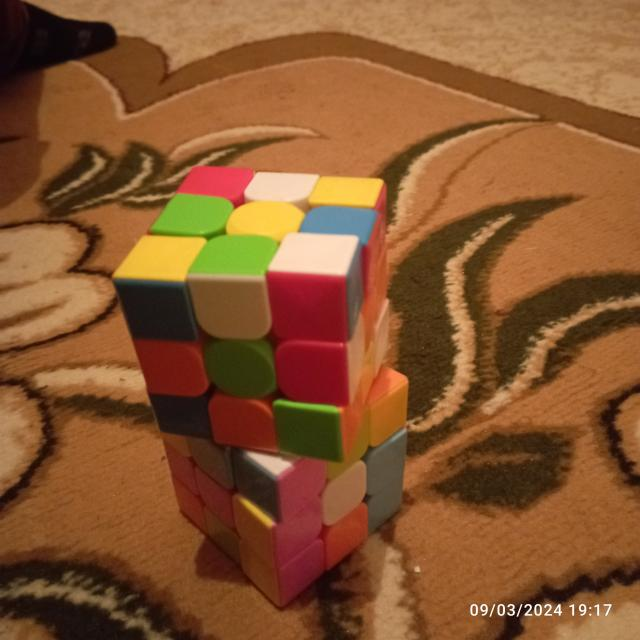Rub: (107, 160, 399, 467), (154, 359, 412, 610)
